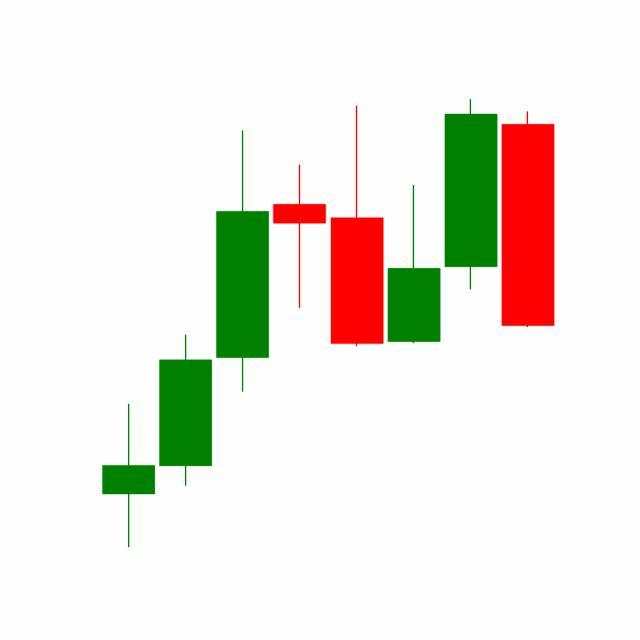Hikkake Pattern: (214, 99, 501, 396)
